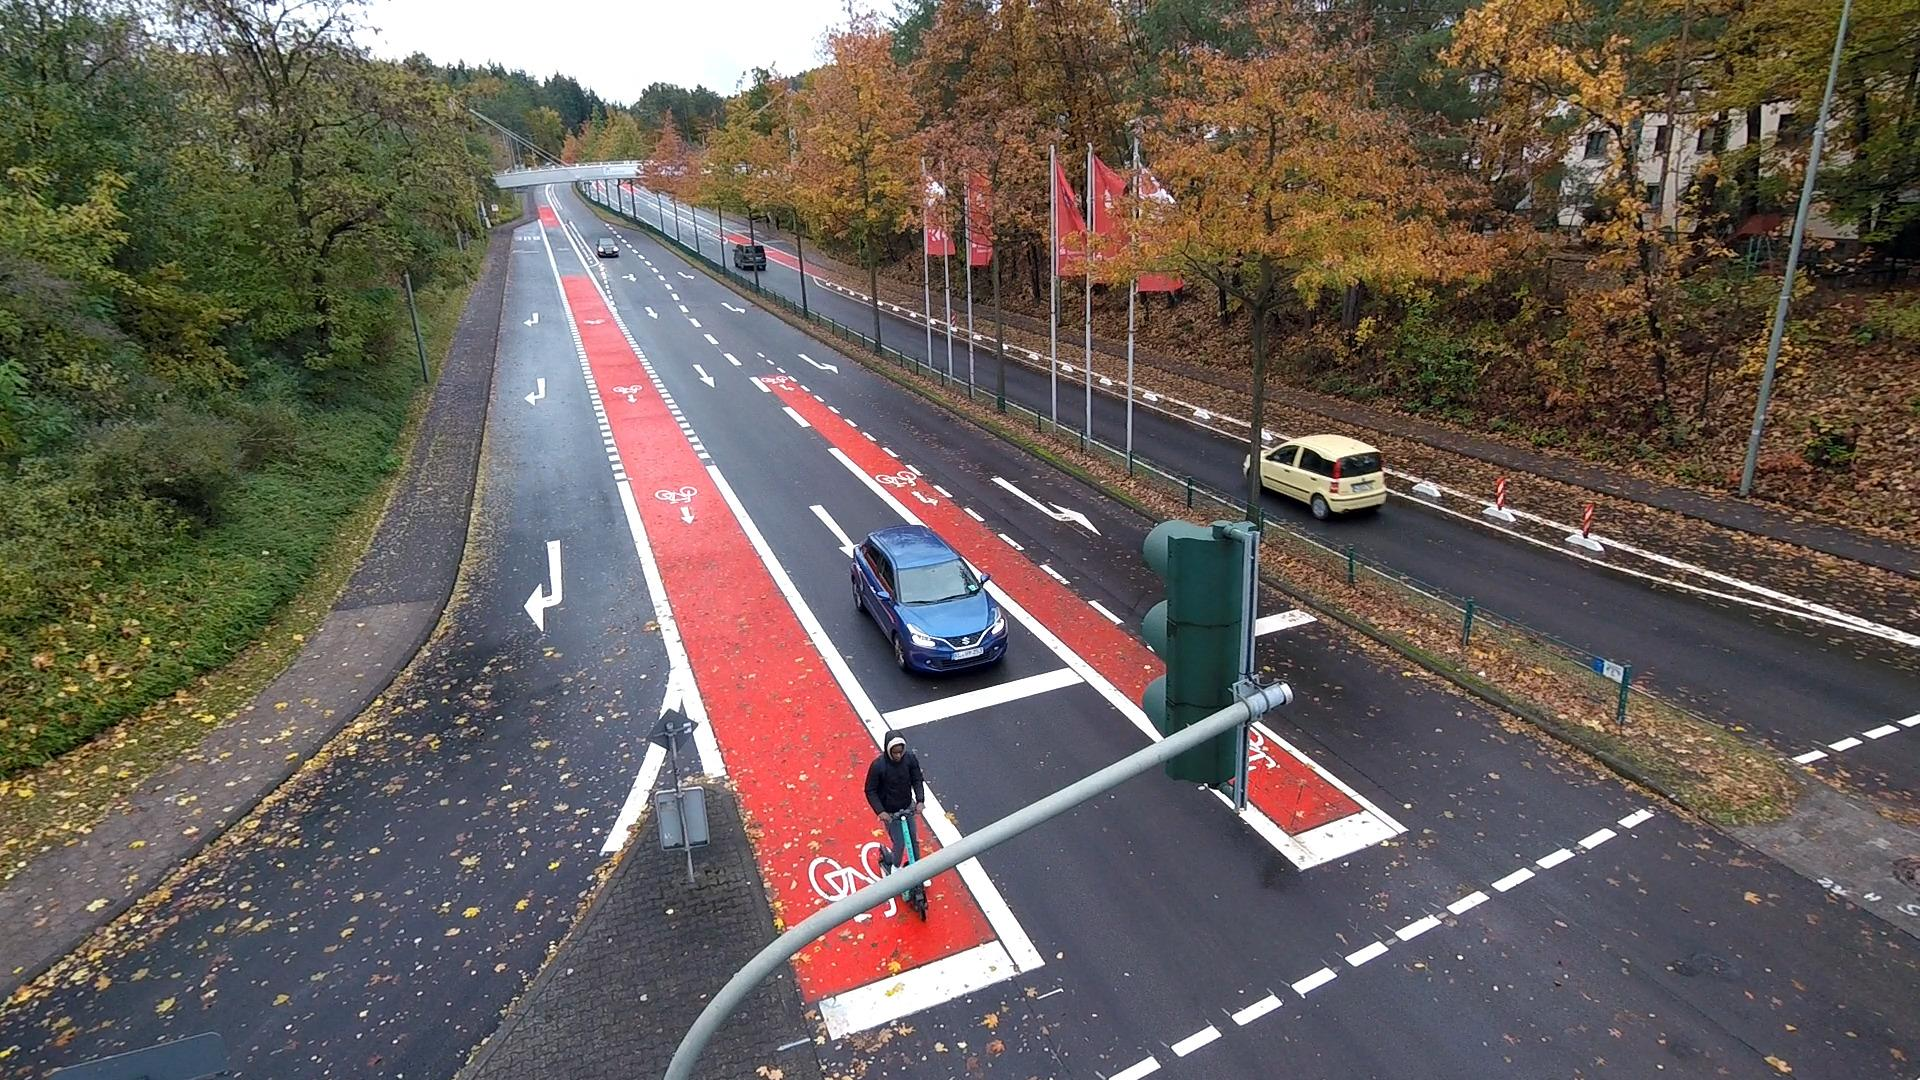bicycle: (865, 728, 924, 877), (897, 882, 930, 926)
bicycle-lane: (535, 185, 895, 938), (719, 351, 1167, 741), (1262, 397, 1920, 632), (789, 853, 1048, 1051), (1236, 723, 1408, 872), (1133, 361, 1255, 422), (915, 781, 961, 858), (803, 260, 873, 298), (1001, 323, 1051, 356), (1091, 348, 1129, 384), (878, 290, 926, 318), (764, 245, 800, 272), (1055, 340, 1087, 369), (1208, 789, 1236, 812), (973, 314, 997, 340), (633, 190, 661, 211), (695, 219, 720, 240), (723, 225, 750, 244), (949, 309, 971, 330), (928, 303, 947, 324), (678, 211, 694, 228), (593, 181, 609, 198), (661, 203, 675, 219), (621, 183, 632, 198)
car: (847, 524, 1013, 682), (732, 241, 754, 270), (599, 237, 618, 257), (757, 245, 769, 273)
car-lane: (0, 223, 670, 1080), (818, 572, 1920, 1080), (595, 220, 1164, 836), (1259, 446, 1919, 818), (1133, 398, 1253, 509), (803, 273, 876, 343), (554, 183, 612, 265), (1001, 355, 1055, 422), (877, 311, 928, 367), (756, 256, 806, 309), (1091, 385, 1129, 454), (1056, 372, 1088, 435), (723, 239, 757, 286), (973, 344, 1001, 398), (753, 232, 800, 261), (696, 227, 724, 270), (636, 199, 663, 236), (931, 328, 951, 377), (952, 335, 971, 385), (603, 257, 620, 309), (678, 219, 699, 255), (720, 218, 752, 241), (661, 210, 676, 244), (632, 183, 658, 203), (694, 210, 721, 228), (620, 190, 634, 219), (608, 183, 618, 216), (673, 200, 692, 216), (582, 186, 597, 204), (659, 196, 675, 211), (600, 195, 609, 210)
